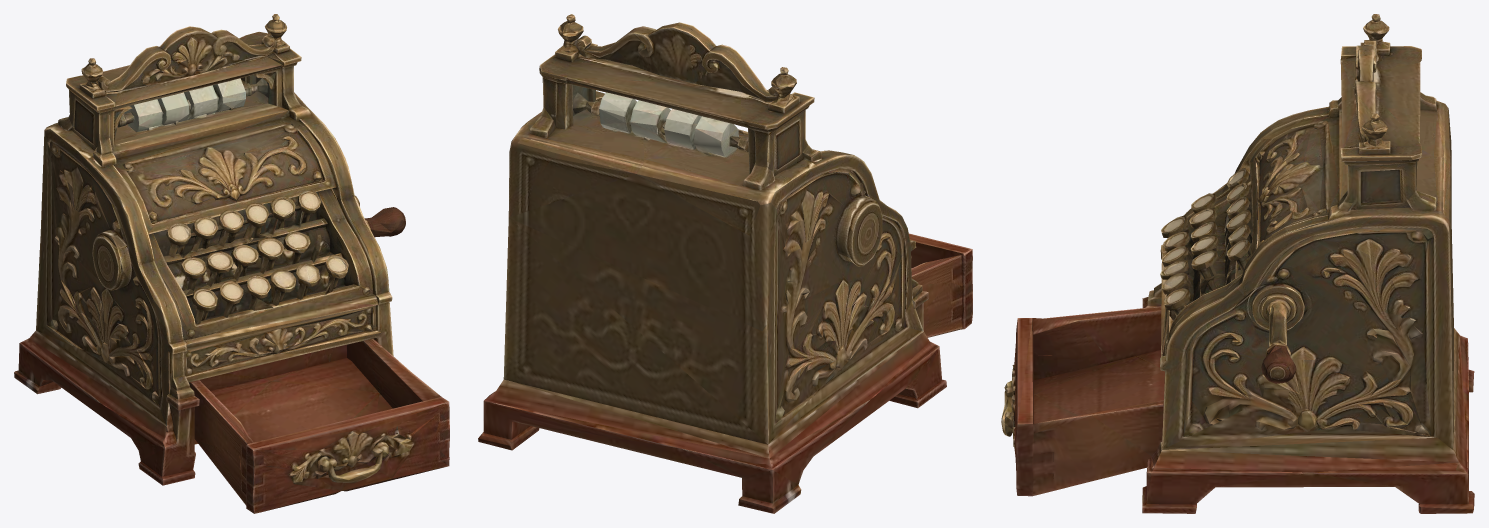
The model's file is register.glb.
3 renders of one model, left to right at view 1: azimuth 30°, elevation 25°; view 2: azimuth 150°, elevation 25°; view 3: azimuth 270°, elevation 25°, orthographic. The views are drawn at different scales.
Parts seen in each view (by area): view 1: Mesh_0; view 2: Mesh_0; view 3: Mesh_0.
Boxes of the visible parts, left/top/right/bottom form: Mesh_0: left=14, top=14, right=449, bottom=513; Mesh_0: left=478, top=14, right=972, bottom=513; Mesh_0: left=1001, top=14, right=1474, bottom=513.
Bounding box in the file's own units: 1.56 × 1.74 × 1.9.
Materials: 1 (1 with a texture image).
